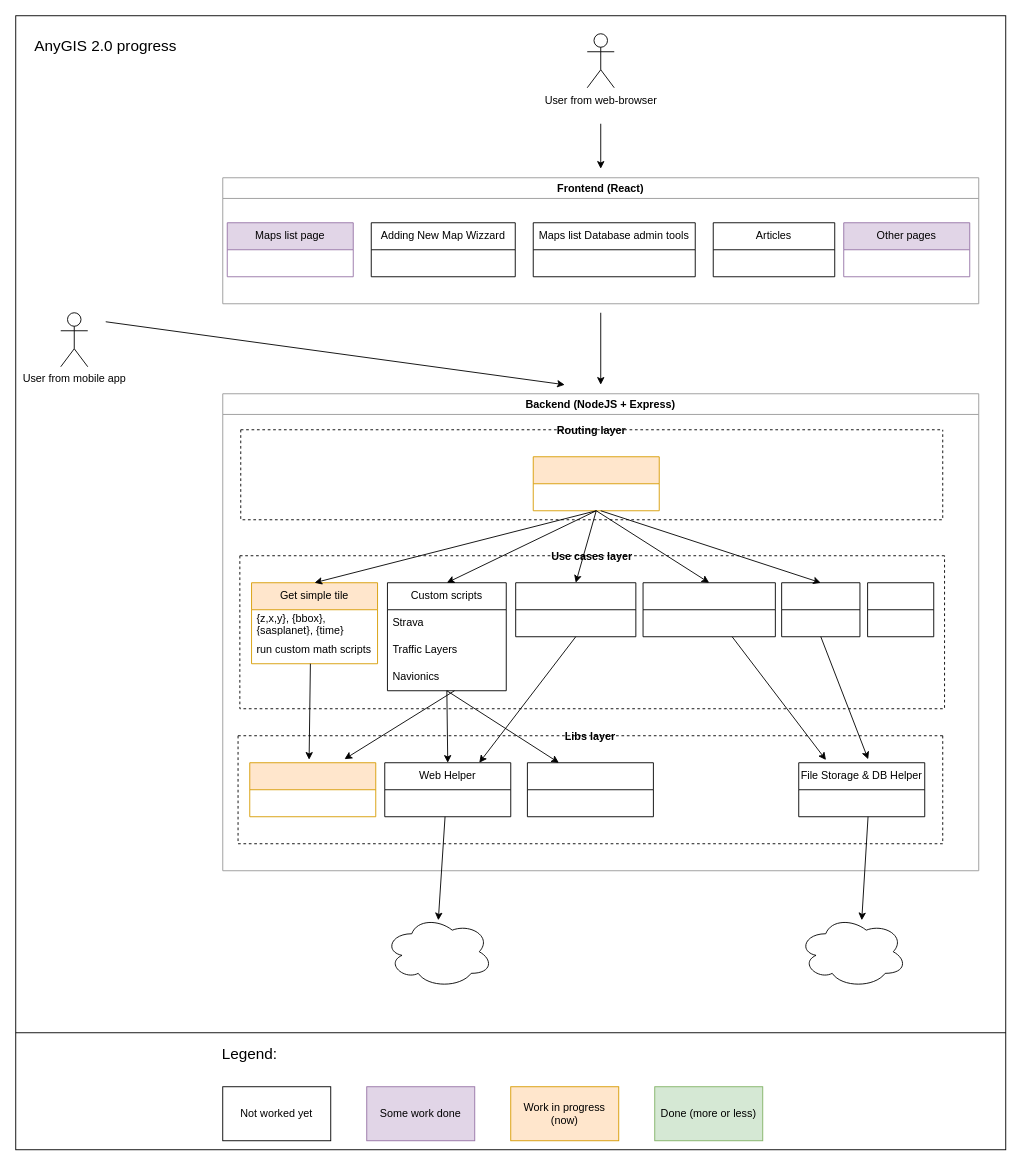
This 1022x1166 diagram has some shape labels left out. The shapes that lost their labels are listed below. From the top down, each one's centre as x and y in pixels, then its label:
the point at 595,483: Router
the point at 575,609: Adding map Wizzard
the point at 708,609: Maps DataBase manager
the point at 820,609: File generator
the point at 900,609: Other tools
the point at 312,789: Geo calculator
the point at 589,789: Image Processor
the point at 438,951: Internet
the point at 852,951: File storage
